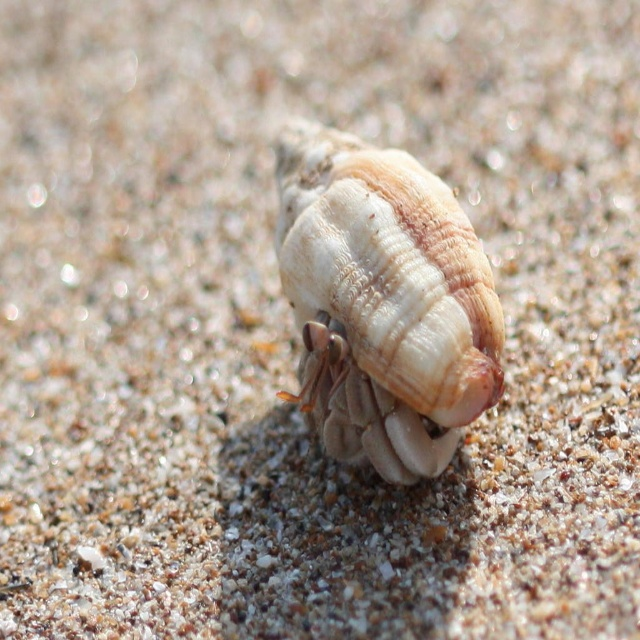Snail: (271, 109, 506, 483)
